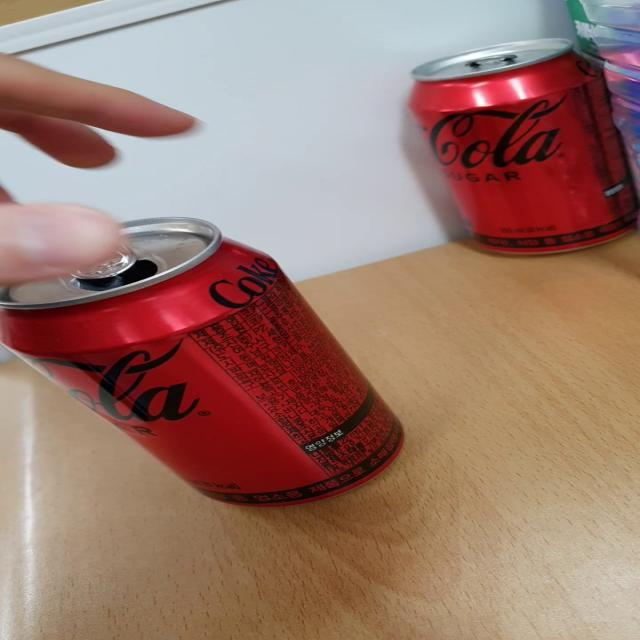coca-cola: (0, 203, 428, 524), (396, 29, 640, 271)
